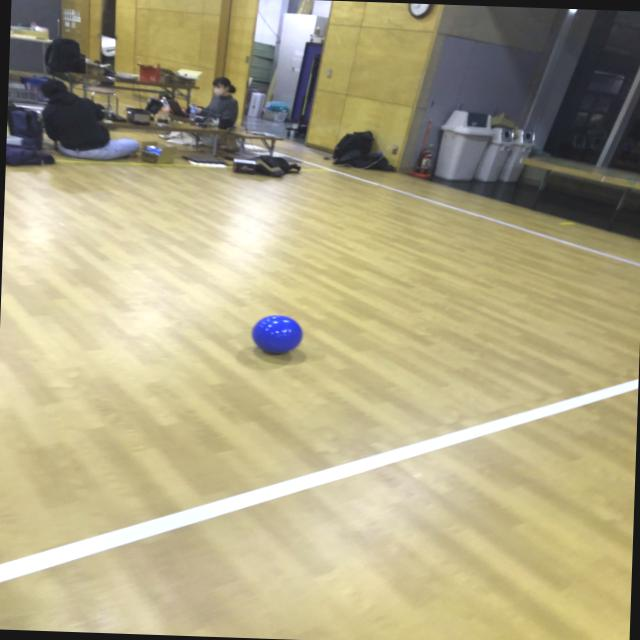blue_ball: (253, 162, 356, 262)
